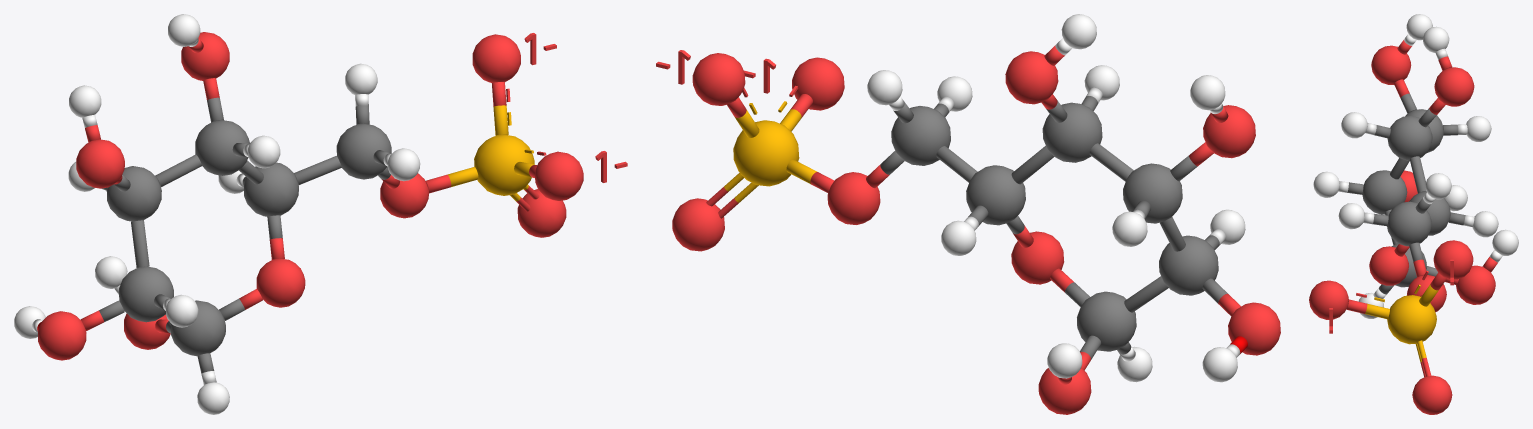
File: alpha-d-glucose-6-phosphate_v002.glb
The picture shows the model from 3 angles, left to right: view 1: azimuth 30°, elevation 25°; view 2: azimuth 150°, elevation 25°; view 3: azimuth 270°, elevation 25°; orthographic projection. The views are drawn at different scales.
Visible parts, largest first — view 1: subnode_0, subnode_15, subnode_10, subnode_13, subnode_12, subnode_11, subnode_14, subnode_3, subnode_7, subnode_1, subnode_4, subnode_8 (+16 smaller); view 2: subnode_0, subnode_14, subnode_15, subnode_13, subnode_12, subnode_10, subnode_11, subnode_8, subnode_2, subnode_9, subnode_6, subnode_4 (+20 smaller); view 3: subnode_0, subnode_10, subnode_15, subnode_13, subnode_2, subnode_9, subnode_7, subnode_1, subnode_8, subnode_3, subnode_5, subnode_12 (+21 smaller).
Boxes of the visible parts, box(x1,y1,x2,y2) form: subnode_0: box(474, 134, 534, 195); subnode_15: box(336, 123, 391, 179); subnode_10: box(195, 120, 249, 175); subnode_13: box(119, 266, 173, 322); subnode_12: box(244, 162, 298, 216); subnode_11: box(106, 166, 161, 221); subnode_14: box(171, 300, 225, 356); subnode_3: box(76, 139, 124, 188); subnode_7: box(535, 151, 583, 200); subnode_1: box(256, 258, 305, 307); subnode_4: box(38, 311, 86, 360); subnode_8: box(472, 34, 520, 82); subnode_0: box(733, 120, 799, 186); subnode_14: box(1077, 291, 1136, 351); subnode_15: box(891, 106, 950, 165); subnode_13: box(1159, 235, 1218, 295); subnode_12: box(966, 165, 1025, 225); subnode_10: box(1042, 102, 1102, 162); subnode_11: box(1123, 163, 1182, 223); subnode_8: box(692, 53, 745, 105); subnode_2: box(1005, 51, 1058, 104); subnode_9: box(672, 198, 724, 251); subnode_6: box(827, 172, 880, 224); subnode_4: box(1228, 302, 1280, 355); subnode_0: box(1387, 295, 1436, 344); subnode_10: box(1387, 116, 1432, 160); subnode_15: box(1387, 201, 1431, 246); subnode_13: box(1362, 170, 1407, 214); subnode_2: box(1434, 67, 1474, 106); subnode_9: box(1412, 375, 1452, 414); subnode_7: box(1309, 280, 1348, 319); subnode_1: box(1369, 246, 1408, 285); subnode_8: box(1433, 240, 1473, 279); subnode_3: box(1371, 45, 1411, 84); subnode_5: box(1456, 265, 1495, 304); subnode_12: box(1409, 191, 1450, 235).
Size of the model in its own units: 9.51 by 6.09 by 3.94.
